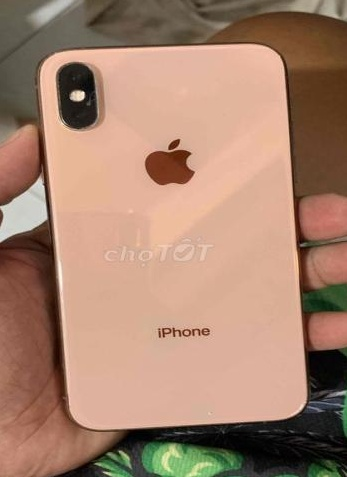physical_damage: (80, 86, 109, 110)
scratch: (190, 399, 229, 423), (44, 79, 67, 119), (46, 58, 82, 74)
